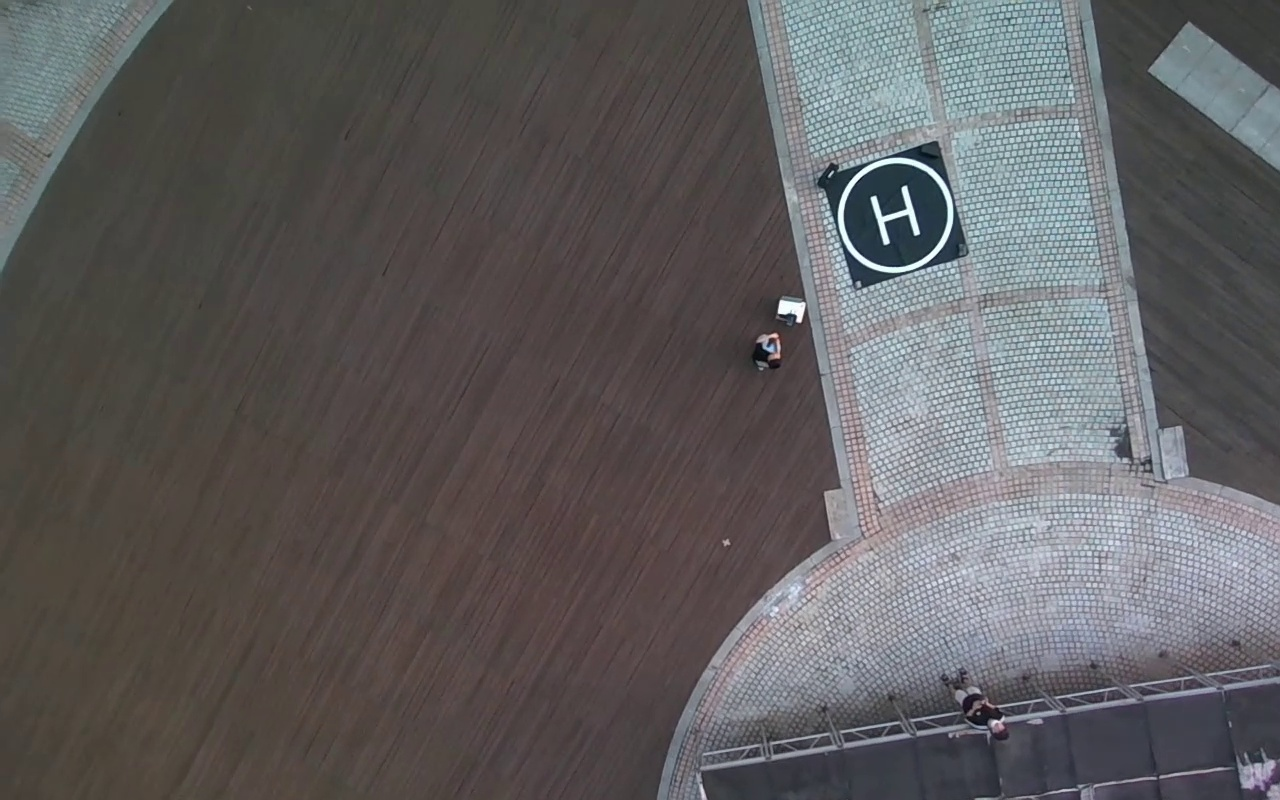H: (869, 184, 921, 246)
heliport: (840, 157, 951, 270)
